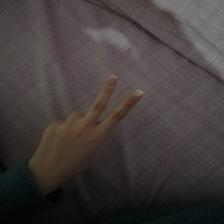two: (36, 72, 148, 187)
